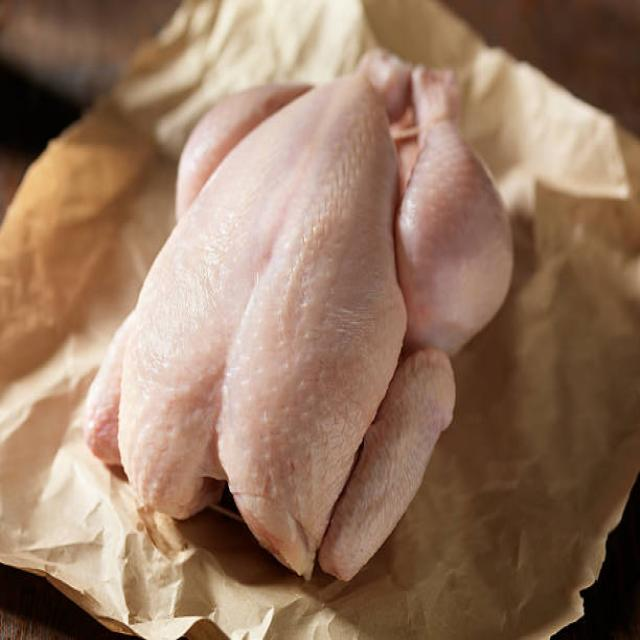Chicken: (71, 37, 542, 601)
